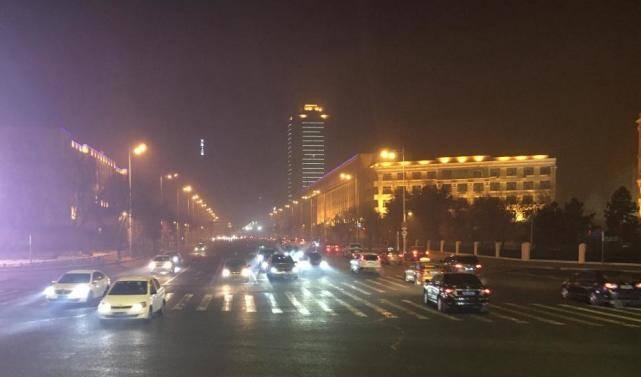car: (559, 267, 641, 308), (95, 275, 164, 323), (421, 269, 491, 313), (43, 267, 113, 306), (403, 255, 444, 284), (439, 253, 482, 278), (267, 252, 299, 281), (298, 248, 328, 276), (348, 250, 381, 275), (252, 244, 281, 270), (221, 257, 253, 280), (147, 252, 174, 273), (376, 245, 403, 265), (403, 245, 431, 263), (281, 245, 305, 263), (342, 241, 363, 259), (161, 249, 181, 266), (324, 239, 340, 252), (193, 241, 208, 252)
